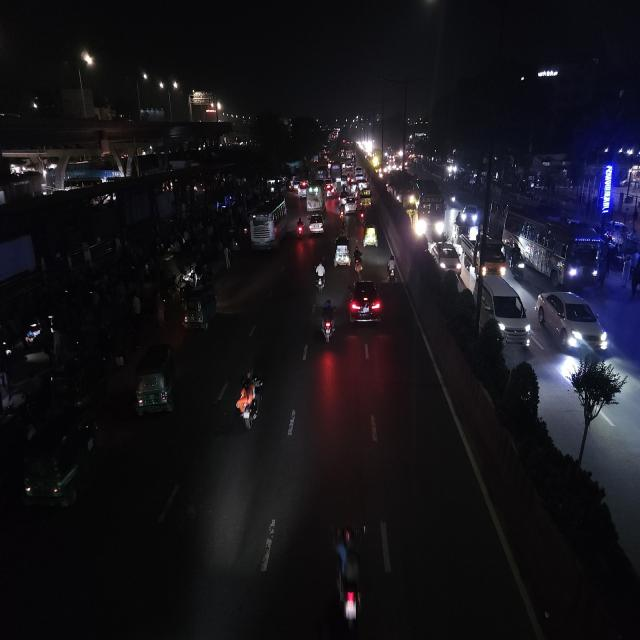bus: (504, 206, 604, 288), (247, 195, 290, 255), (415, 176, 447, 241), (387, 170, 418, 212), (308, 180, 322, 210)
car: (18, 402, 100, 520), (535, 286, 611, 358), (471, 274, 532, 349), (347, 276, 382, 327), (429, 241, 462, 276), (308, 211, 325, 236), (344, 194, 358, 217)
cng: (133, 338, 179, 426), (178, 282, 219, 335), (333, 232, 352, 270), (361, 217, 379, 250)
motorcycle: (327, 518, 369, 639), (234, 368, 267, 436), (318, 297, 338, 348), (505, 242, 527, 280), (313, 260, 327, 293), (385, 253, 399, 284), (352, 245, 364, 275), (296, 215, 306, 241)
pedestrian: (629, 250, 640, 298), (222, 245, 232, 272)
pickup_van: (463, 232, 507, 277), (358, 188, 373, 210)
